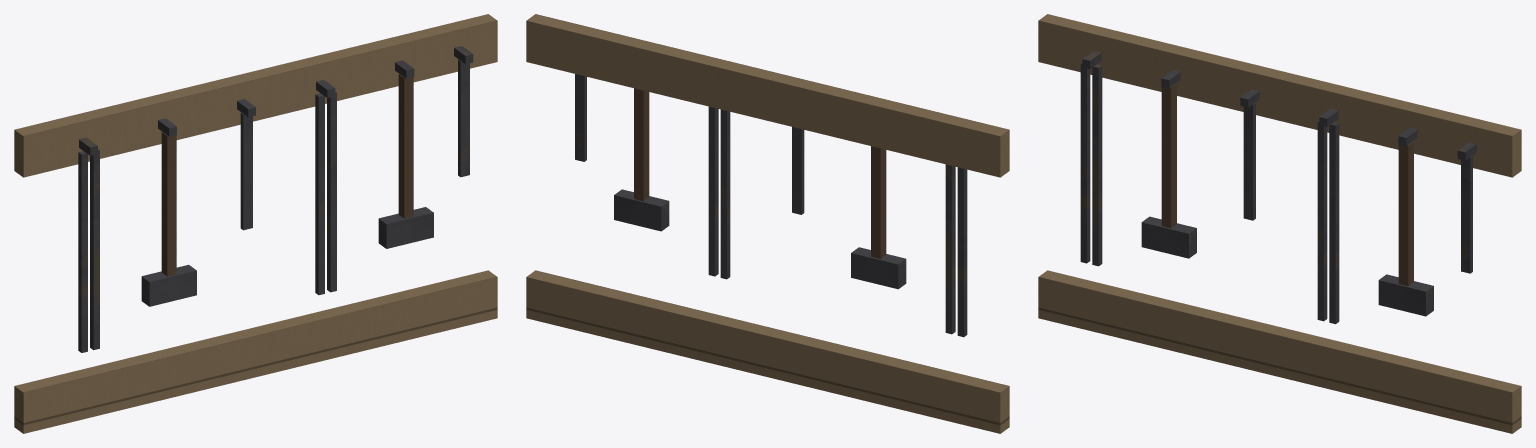
Rendered from tool_board.glb.
The picture shows the model from 3 angles, left to right: view 1: azimuth 30°, elevation 25°; view 2: azimuth 150°, elevation 25°; view 3: azimuth 330°, elevation 25°; orthographic projection.
Parts seen in each view (by area): view 1: tool_board; view 2: tool_board; view 3: tool_board.
Boxes of the visible parts, bbox=[...] form: tool_board: bbox=[14, 14, 497, 433]; tool_board: bbox=[526, 14, 1009, 433]; tool_board: bbox=[1038, 14, 1521, 433].
Size of the model in its own units: 1.2 by 0.72 by 0.09.
Materials: 3 (3 with a texture image).
